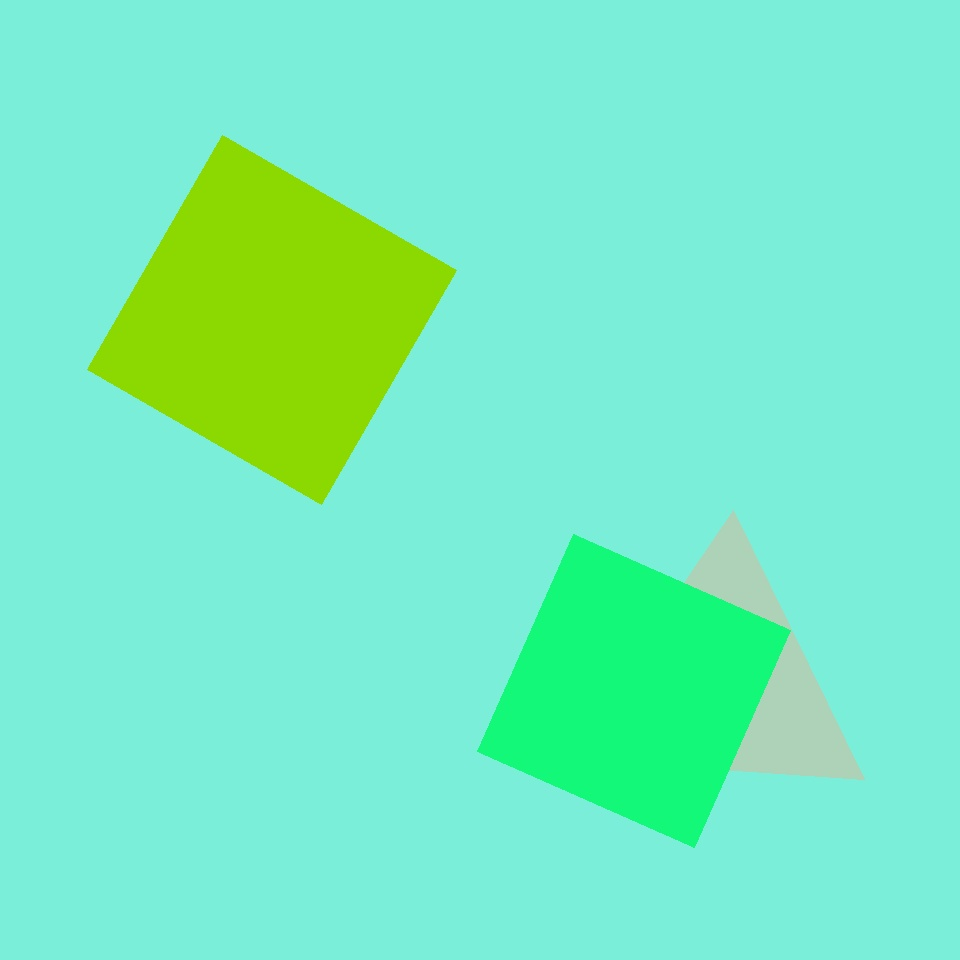circle: (572, 548, 871, 818)
square: (87, 135, 456, 504), (478, 535, 790, 848)
